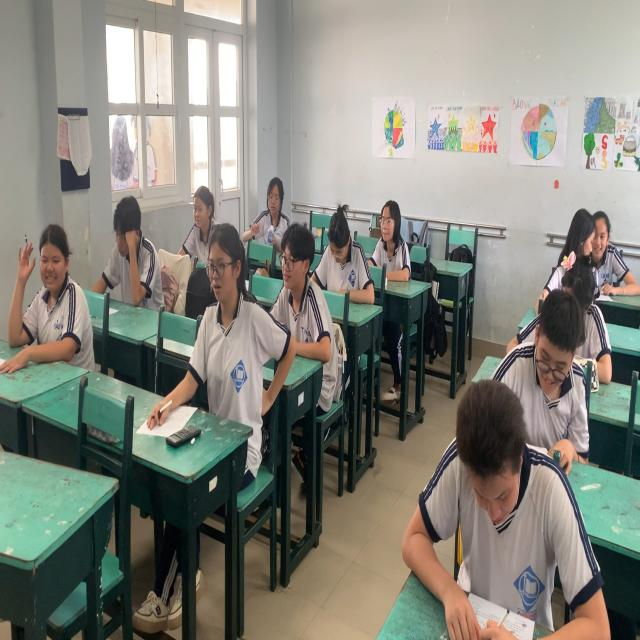cheating: (566, 204, 594, 260)
not_cheating: (420, 382, 568, 640), (514, 290, 592, 465), (12, 225, 92, 376), (203, 220, 257, 406), (98, 184, 158, 317), (274, 222, 325, 366), (316, 200, 374, 310), (587, 200, 640, 303), (364, 191, 410, 284), (179, 178, 220, 258), (257, 175, 288, 248)
